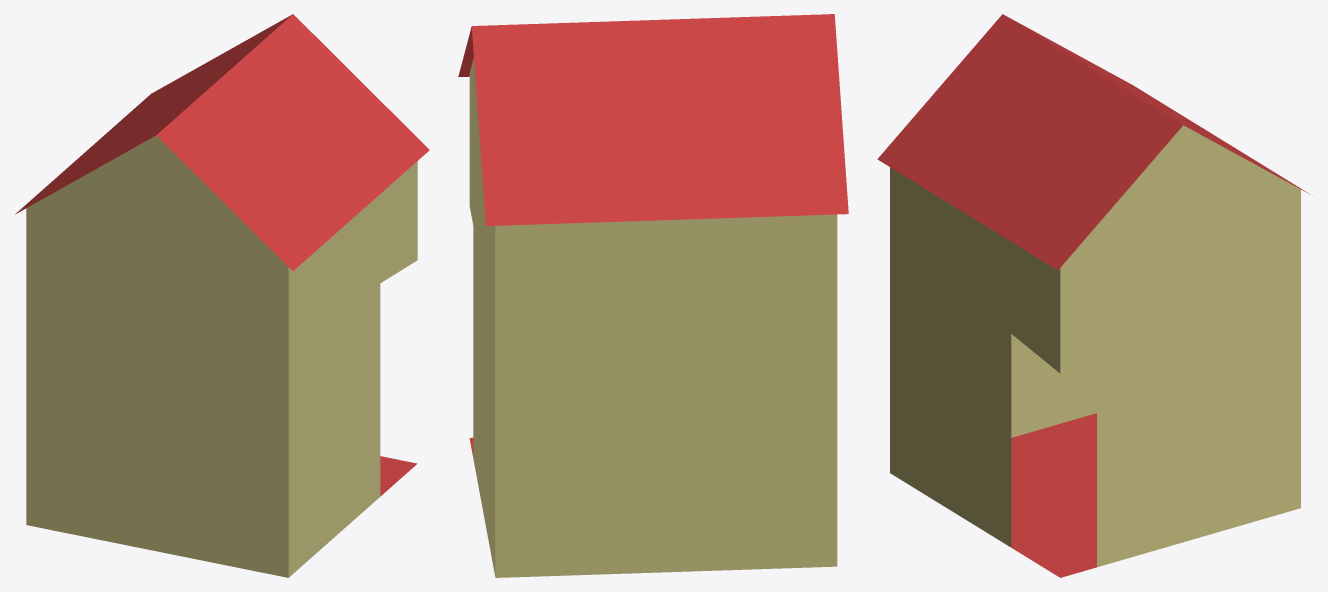
The picture shows the model from 3 angles, left to right: view 1: azimuth 30°, elevation 25°; view 2: azimuth 150°, elevation 25°; view 3: azimuth 270°, elevation 25°; orthographic projection. The views are drawn at different scales.
Size of the model in its own units: 11.92 by 11.86 by 12.65.
